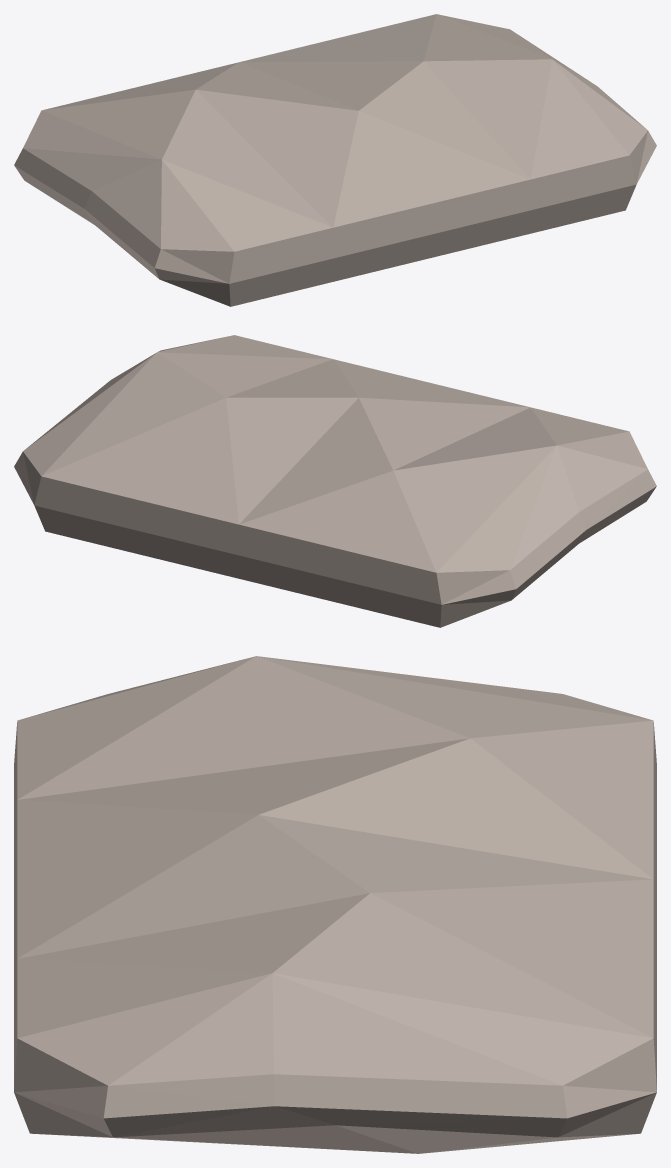
Rendered from SM_Pillow_01.glb.
The picture shows the model from 3 angles, top to bottom: view 1: azimuth 30°, elevation 25°; view 2: azimuth 150°, elevation 25°; view 3: azimuth 270°, elevation 25°; orthographic projection. The views are drawn at different scales.
Visible parts, largest first — view 1: SM_Pillow_01; view 2: SM_Pillow_01; view 3: SM_Pillow_01.
Part boxes in pixels (<box>): SM_Pillow_01: <box>14,14,656,306</box>; SM_Pillow_01: <box>14,335,656,627</box>; SM_Pillow_01: <box>14,656,656,1153</box>.
Size of the model in its own units: 0.6899 by 0.1444 by 0.4641.
1 material, 1 textured.
